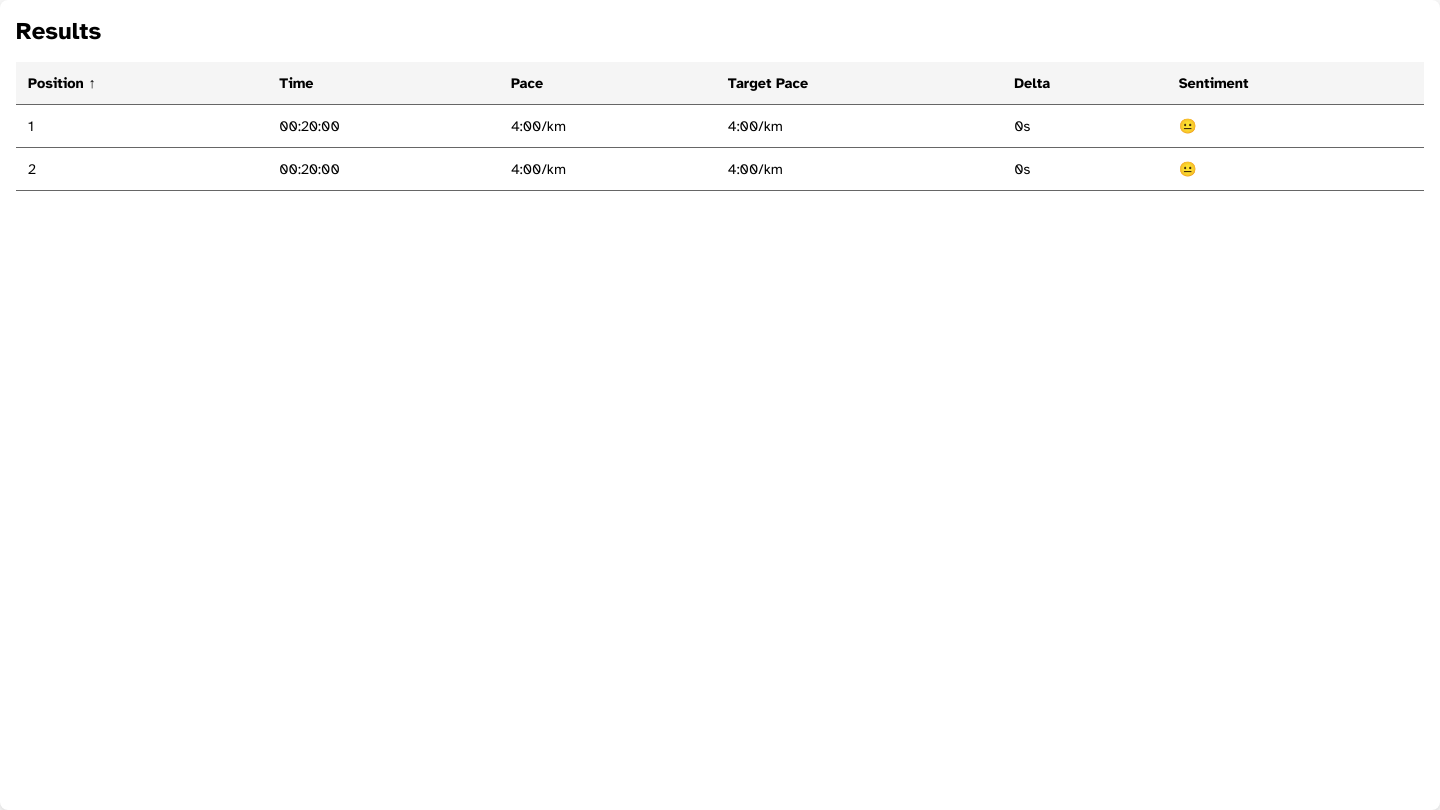
Test: Results Component › allows sorting when clicking column headers
What coordinates should you click on to do the following:
click the column heading "Time"
I would click on:
 (383, 83)
Its box is [267,62,499,104].
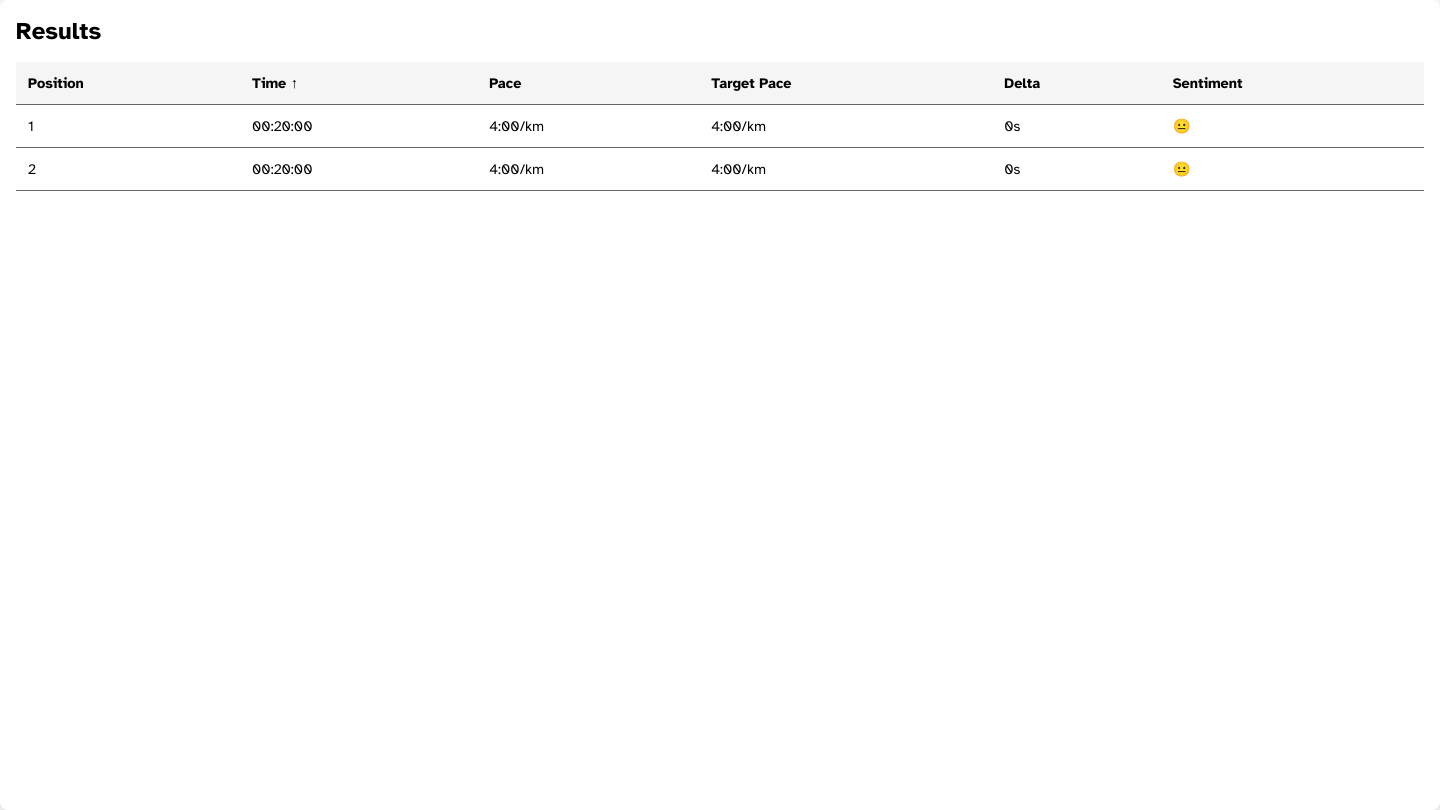
Check: the column heading "Time ↑" is shown
What coordinates should you click on to do the following:
click the column heading "Time ↑"
I would click on:
 (359, 83)
Its box is [240,62,477,104].
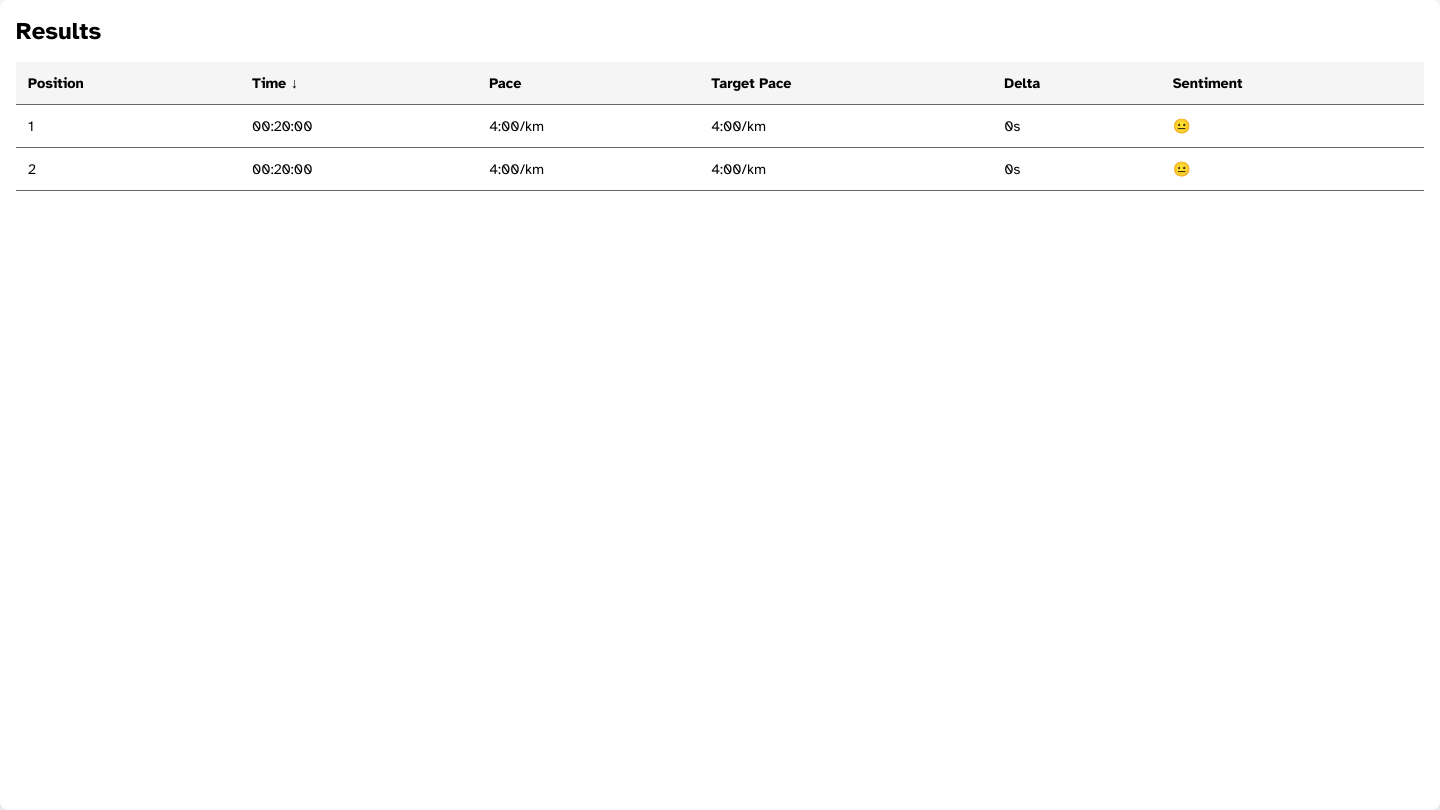
Check: the column heading "Time ↓" is shown, box [240,62,477,104]
